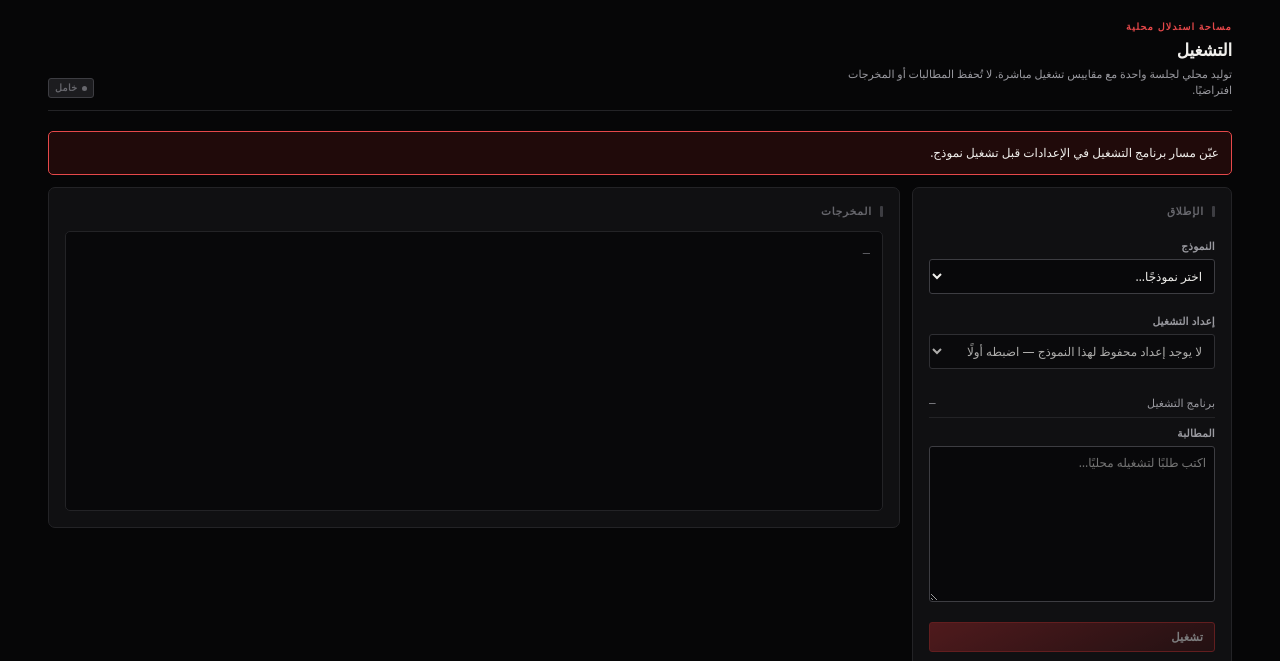
Run page › keeps the backend, threads, and runtime binary path forced ltr in the Arabic RTL page
This screenshot has width=1280, height=661.
Select "Qwen2.5 0.5B" in the dropdown labelled "النموذج". click: (1072, 277)
box: 929,259 -> 1215,294
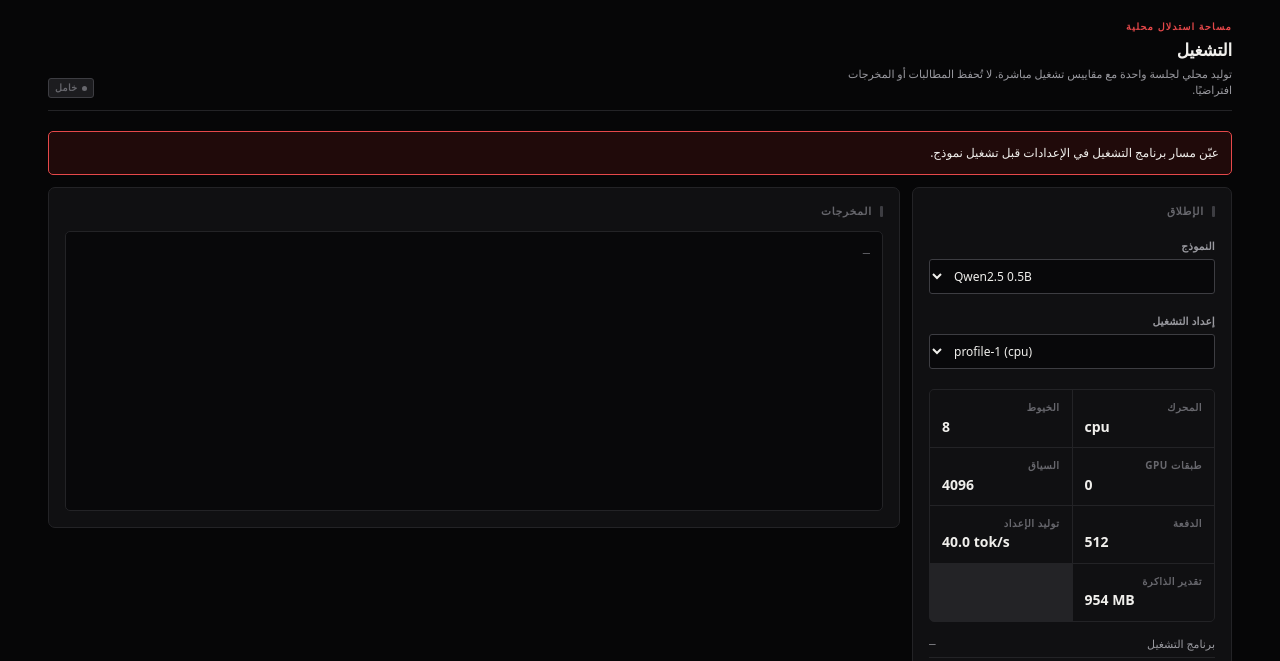
Expected: the text "cpu" is shown, 1084,417 -> 1110,436
